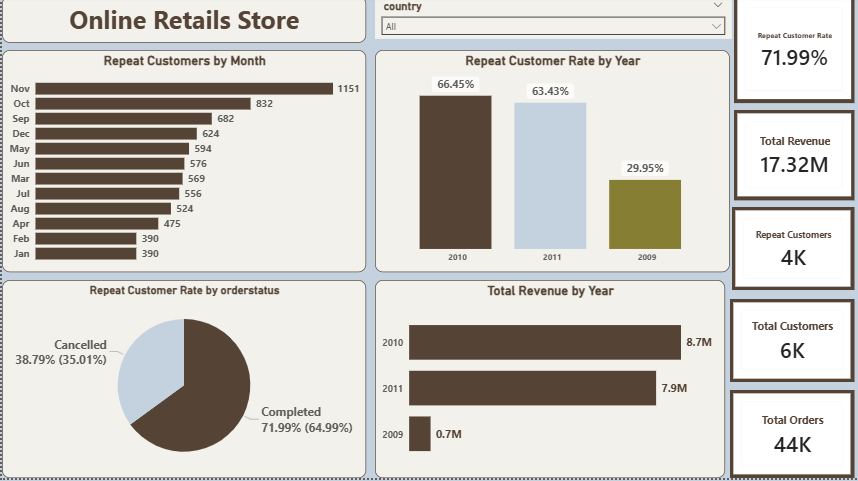

This screenshot's page, from the dashboard's own definition file:
{"tool":"powerbi","page":{"name":"CUSTOMER ANALYTICS","canvas":[1280,720],"ordinal":1},"visuals":[{"type":"cardVisual","fields":{"Data":["customers.Total Customers"]},"box":[1087.3,452.2,185.9,124.4],"z":0},{"type":"cardVisual","fields":{"Data":["orders.Total Orders"]},"box":[1087.3,588.3,185.9,131.7],"z":1000},{"type":"cardVisual","fields":{"Data":["customers.Total Revenue"]},"box":[1093.2,169.8,180,134.6],"z":2000},{"type":"textbox","box":[0,0,544.4,70.2],"z":3000},{"type":"cardVisual","fields":{"Data":["customers.Repeat Customer Rate"]},"box":[1093.2,0,180,159.5],"z":4000},{"type":"cardVisual","fields":{"Data":["customers.Repeat Customers"]},"box":[1090.2,314.6,182.9,124.4],"z":5000},{"type":"clusteredBarChart","fields":{"Y":["customers.Repeat Customers"],"Category":["DateTable.Month"]},"box":[0,80.5,544.4,332.2],"z":6000},{"type":"pieChart","fields":{"Y":["customers.Repeat Customer Rate"],"Category":["orders.orderstatus"]},"box":[0,424.2,543.7,295.8],"z":7000},{"type":"slicer","fields":{"Values":["customers.country"]},"box":[557.6,0,532.7,64.4],"z":8000},{"type":"barChart","fields":{"Category":["DateTable.Year"],"Y":["customers.Total Revenue"]},"box":[557.2,424.2,522.8,295.8],"z":9000},{"type":"lineClusteredColumnComboChart","fields":{"Category":["DateTable.Year"],"Y":["customers.Repeat Customer Rate"]},"box":[557.6,80.5,529.8,332.2],"z":10000}]}

Visuals, with their boxes in screenshot pixels (x1, y1, x2, y2), scaled from the page's 1280x720 canvas onto the 858x481 screenshot:
cardVisual - customers.Total Customers: detection(729, 302, 853, 385)
cardVisual - orders.Total Orders: detection(729, 393, 853, 480)
cardVisual - customers.Total Revenue: detection(733, 113, 853, 203)
textbox: detection(0, 0, 365, 47)
cardVisual - customers.Repeat Customer Rate: detection(733, 0, 853, 107)
cardVisual - customers.Repeat Customers: detection(731, 210, 853, 293)
clusteredBarChart - customers.Repeat Customers x DateTable.Month: detection(0, 54, 365, 276)
pieChart - customers.Repeat Customer Rate x orders.orderstatus: detection(0, 283, 364, 480)
slicer - customers.country: detection(374, 0, 731, 43)
barChart - DateTable.Year x customers.Total Revenue: detection(373, 283, 724, 480)
lineClusteredColumnComboChart - DateTable.Year x customers.Repeat Customer Rate: detection(374, 54, 729, 276)
